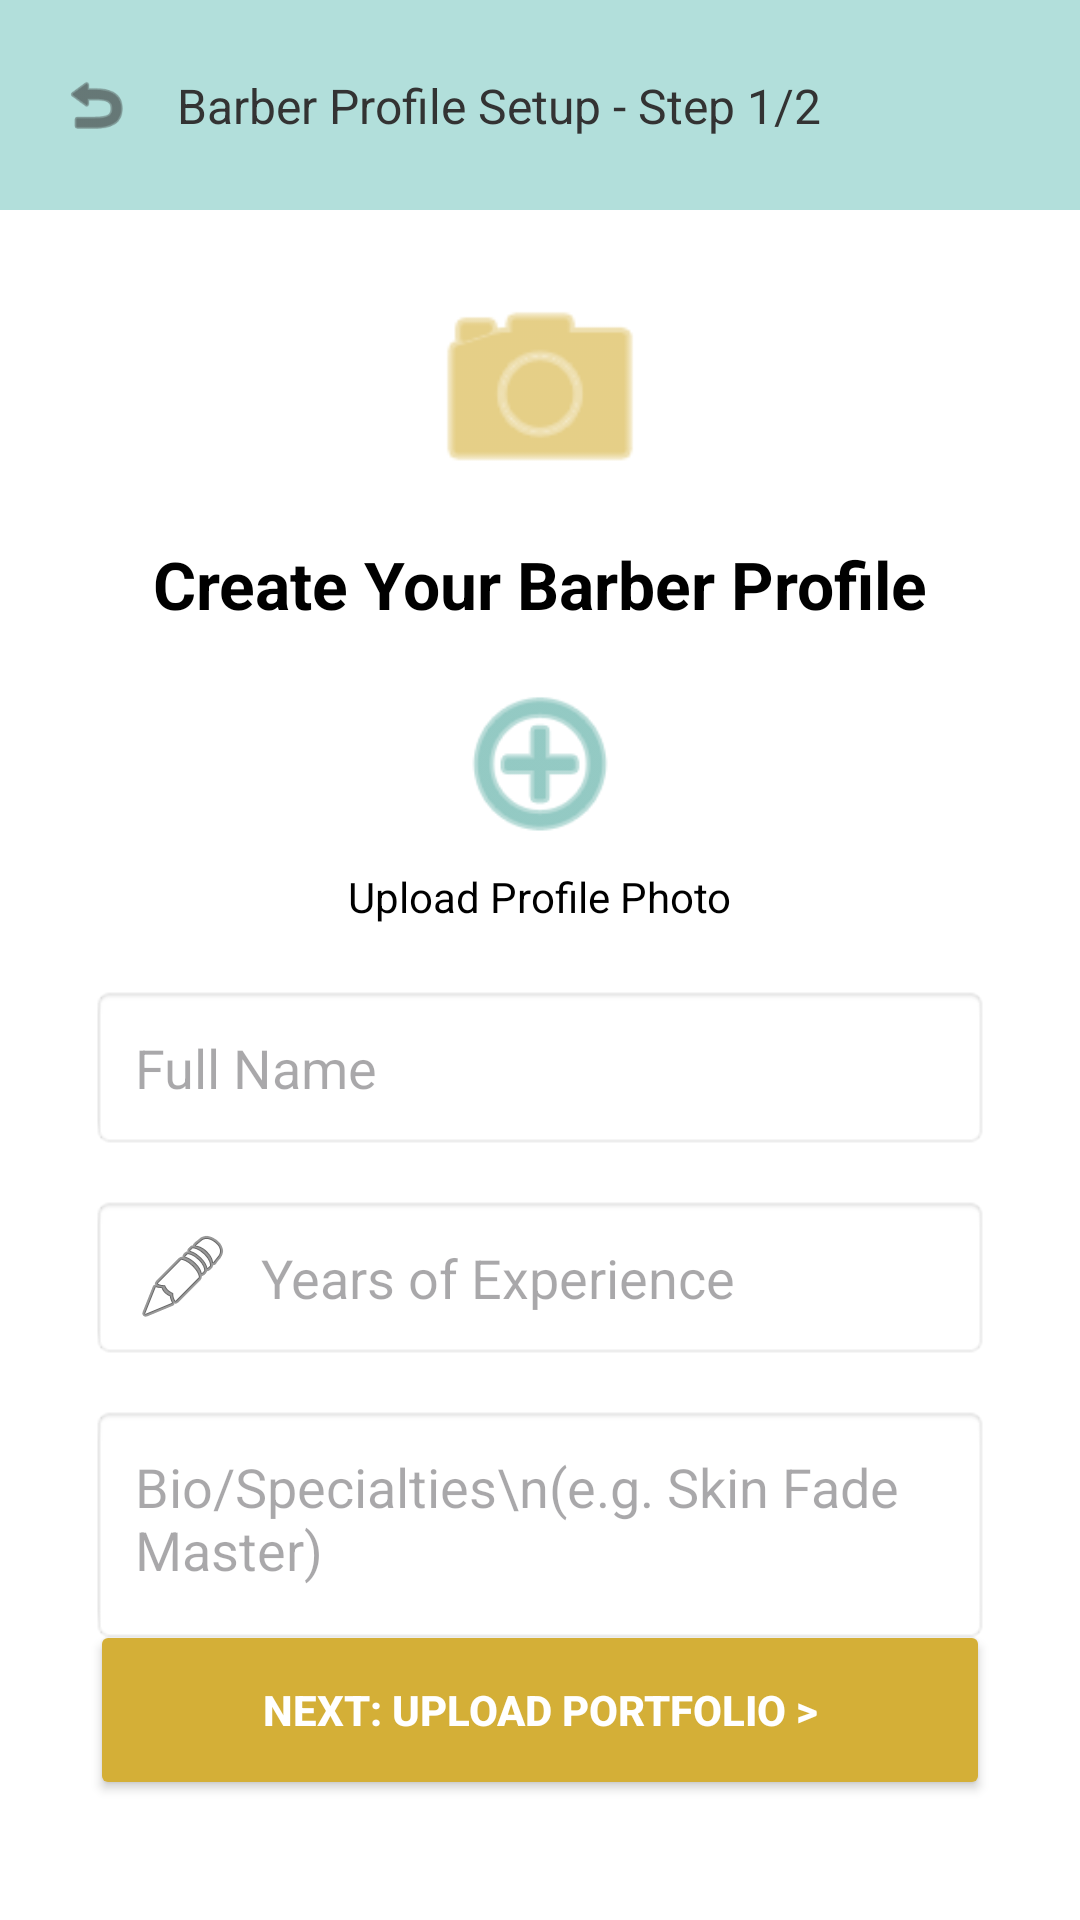

Icon click points for this 1080w x 1920h phone screenshot, format (x,y):
add: (540,764)
camera: (540,386)
revert: (97,105)
